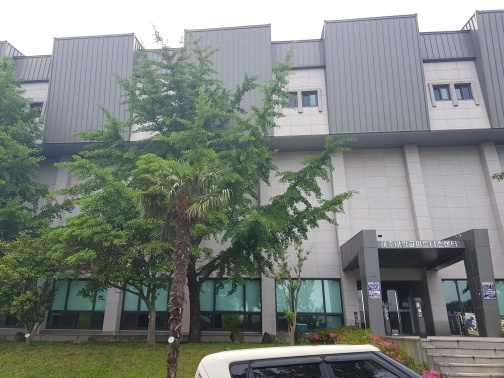Gym: (48, 23, 504, 344), (337, 214, 504, 341)
